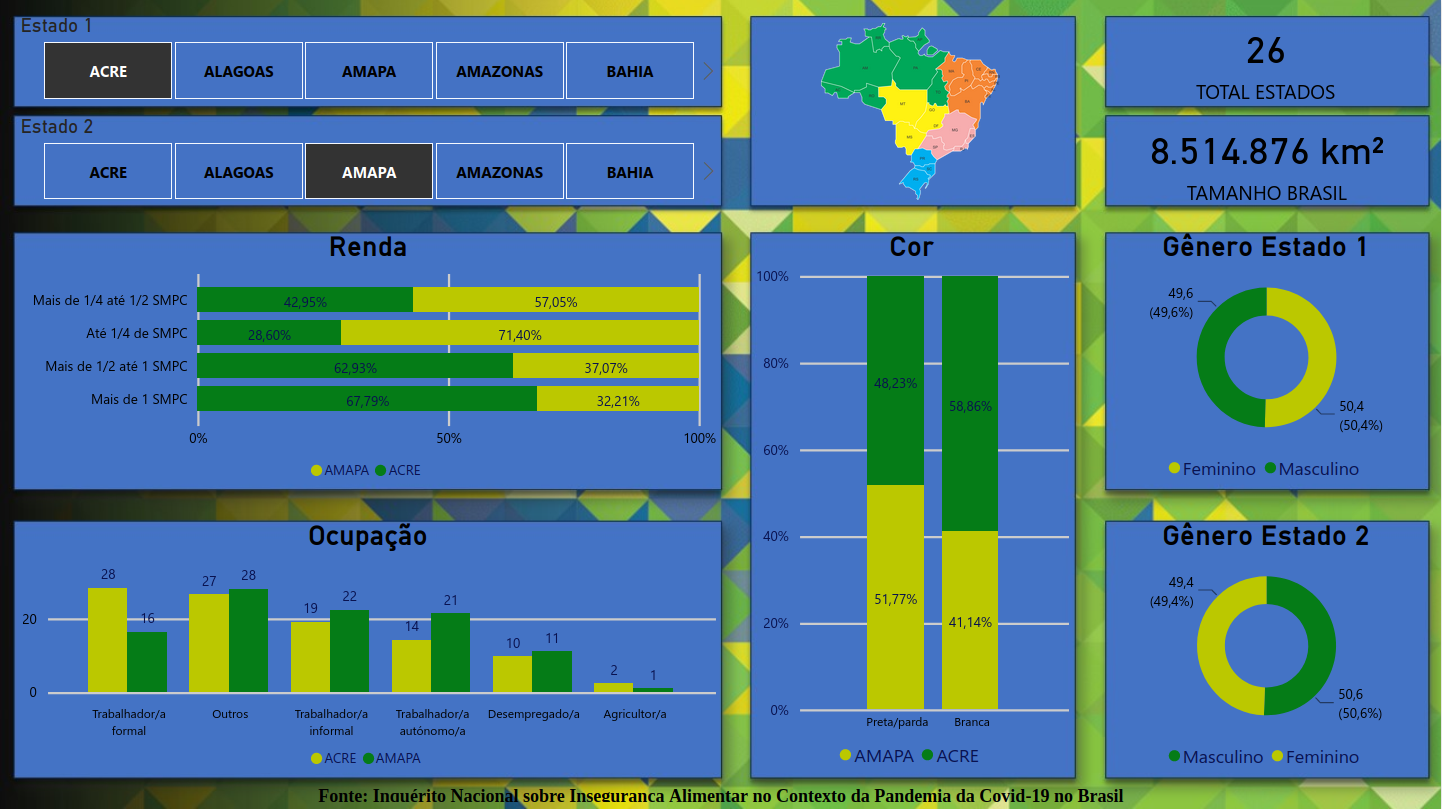

This screenshot's page, from the dashboard's own definition file:
{"tool":"powerbi","page":{"name":"Página 1","canvas":[1280,720],"ordinal":0},"visuals":[{"type":"hundredPercentStackedBarChart","title":"Renda","fields":{"Y":["Estados.ALAGOAS","Estados.ACRE"],"Category":["comparação estados.CARACTERÍSTICAS SOCIOECONÔMICAS"]},"box":[13,207,627,229],"z":0},{"type":"donutChart","title":"Gênero Estado 1","fields":{"Y":["Estados.ACRE"],"Category":["comparação estados.CARACTERÍSTICAS SOCIOECONÔMICAS"]},"box":[980,207,288,229],"z":1000},{"type":"donutChart","title":"Gênero Estado 2","fields":{"Y":["Estados.ALAGOAS"],"Category":["comparação estados.CARACTERÍSTICAS SOCIOECONÔMICAS"]},"box":[980,463,288,228],"z":2000},{"type":"hundredPercentStackedColumnChart","title":"Cor","fields":{"Y":["Estados.ALAGOAS","Estados.ACRE"],"Category":["comparação estados.CARACTERÍSTICAS SOCIOECONÔMICAS"]},"box":[665,207,289,484],"z":3000},{"type":"clusteredColumnChart","title":"Ocupação","fields":{"Y":["Estados.ACRE","Estados.ALAGOAS"],"Category":["comparação estados.CARACTERÍSTICAS SOCIOECONÔMICAS"]},"box":[13,463,627,228],"z":4000},{"type":"slicer","title":"Estado 1","fields":{"Values":["Parâmetro.Parâmetro"]},"box":[13,14,627,81],"z":5000},{"type":"slicer","title":"Estado 2","fields":{"Values":["Parâmetro 2.Parâmetro"]},"box":[12.9,103.5,627,80],"z":6000},{"type":"card","fields":{"Values":["MEDIDAS.TOTAL ESTADOS"]},"box":[978.6,12.8,290,81.4],"z":7000},{"type":"card","fields":{"Values":["MEDIDAS.TAMANHO BRASIL"]},"box":[980,102.8,288.6,80],"z":8000},{"type":"image","box":[664.3,15.1,288.5,167.8],"z":9000},{"type":"textbox","box":[0,691.2,1280,25.2],"z":9001}]}

Visuals, with their boxes in screenshot pixels (x1, y1, x2, y2), scaled from the page's 1280x720 canvas onto the 1442x809 screenshot:
"Renda" hundredPercentStackedBarChart: x1=15 y1=233 x2=721 y2=490
"Gênero Estado 1" donutChart: x1=1104 y1=233 x2=1428 y2=490
"Gênero Estado 2" donutChart: x1=1104 y1=520 x2=1428 y2=776
"Cor" hundredPercentStackedColumnChart: x1=749 y1=233 x2=1075 y2=776
"Ocupação" clusteredColumnChart: x1=15 y1=520 x2=721 y2=776
"Estado 1" slicer: x1=15 y1=16 x2=721 y2=107
"Estado 2" slicer: x1=15 y1=116 x2=721 y2=206
card - MEDIDAS.TOTAL ESTADOS: x1=1102 y1=14 x2=1429 y2=106
card - MEDIDAS.TAMANHO BRASIL: x1=1104 y1=116 x2=1429 y2=205
image: x1=748 y1=17 x2=1073 y2=206
textbox: x1=0 y1=777 x2=1441 y2=805
